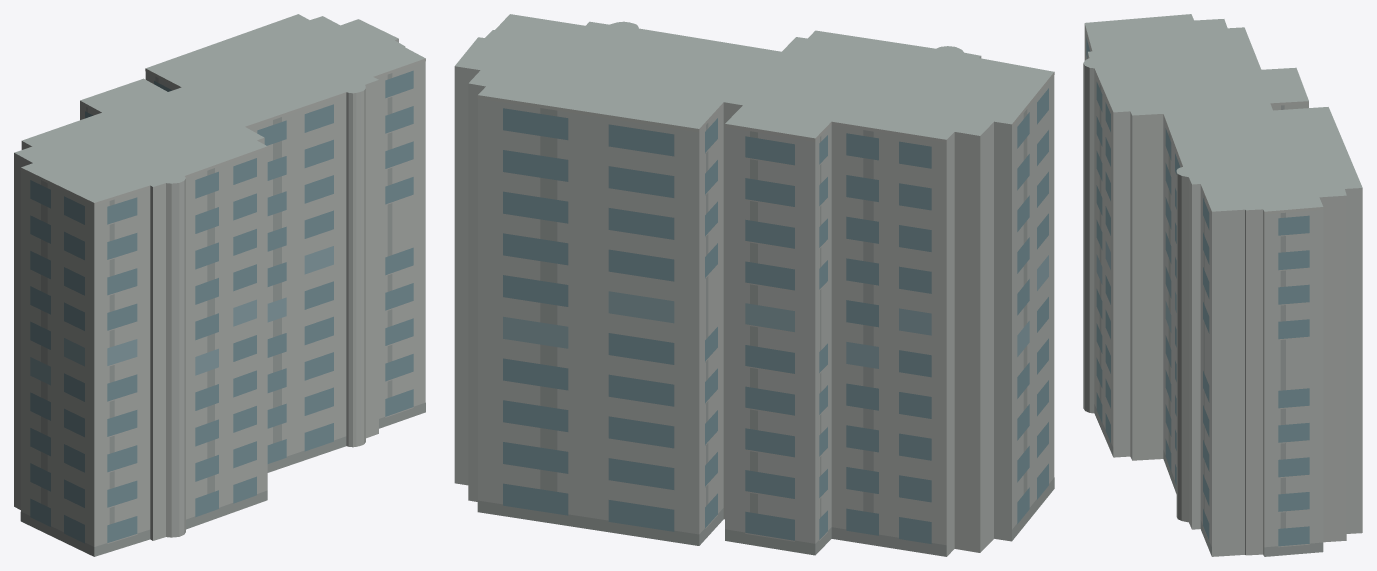
Rendered from survey-upis-32680846.glb.
3 views of the same model, side by side, from view 1: azimuth 30°, elevation 25°; view 2: azimuth 150°, elevation 25°; view 3: azimuth 270°, elevation 25° (orthographic). The views are drawn at different scales.
Parts seen in each view (by area): view 1: survey-upis-32680846.tmp; view 2: survey-upis-32680846.tmp; view 3: survey-upis-32680846.tmp.
Boxes of the visible parts, x1,y1,x2,y2 form: survey-upis-32680846.tmp: [14, 14, 425, 556]; survey-upis-32680846.tmp: [454, 14, 1054, 556]; survey-upis-32680846.tmp: [1083, 14, 1362, 556].
Size of the model in its own units: 37.48 by 30.5 by 22.39.
